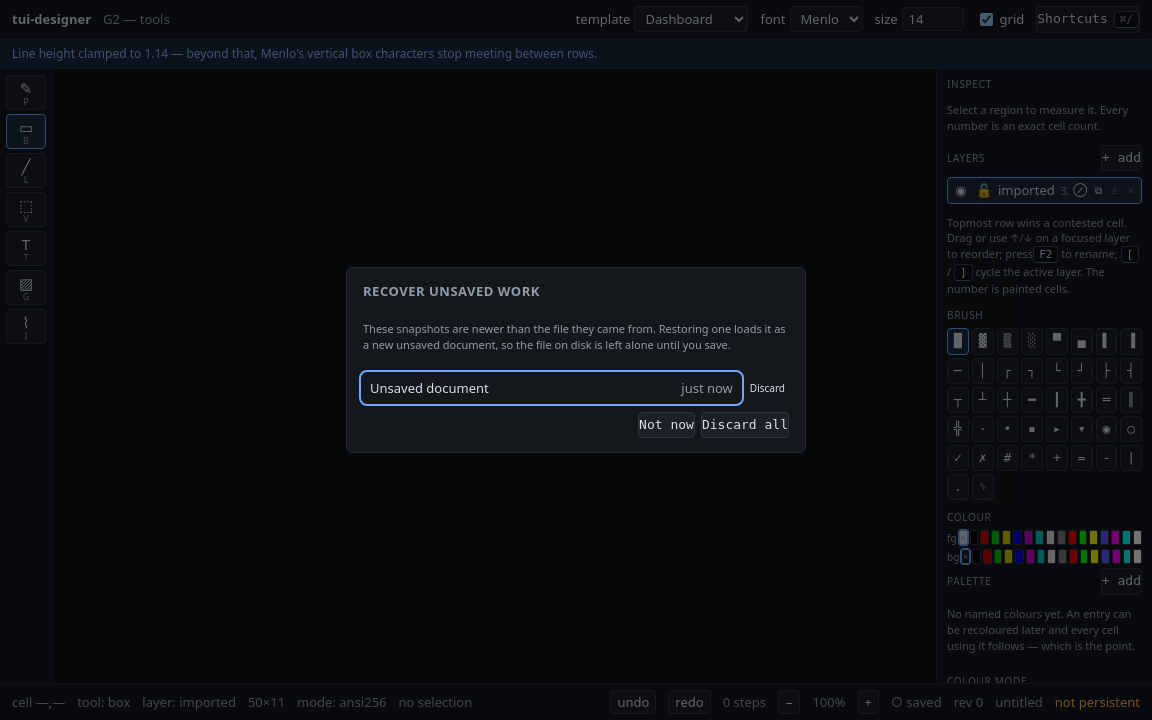
Scenario: App component boundary › keeps recovery modal priority and leaves it open after a failed restore
The image size is (1152, 720).
Press e
Press s
Click the button titled "untitled-90000-1.tui (in memory)" at point(429, 388), box [363,374,740,402]
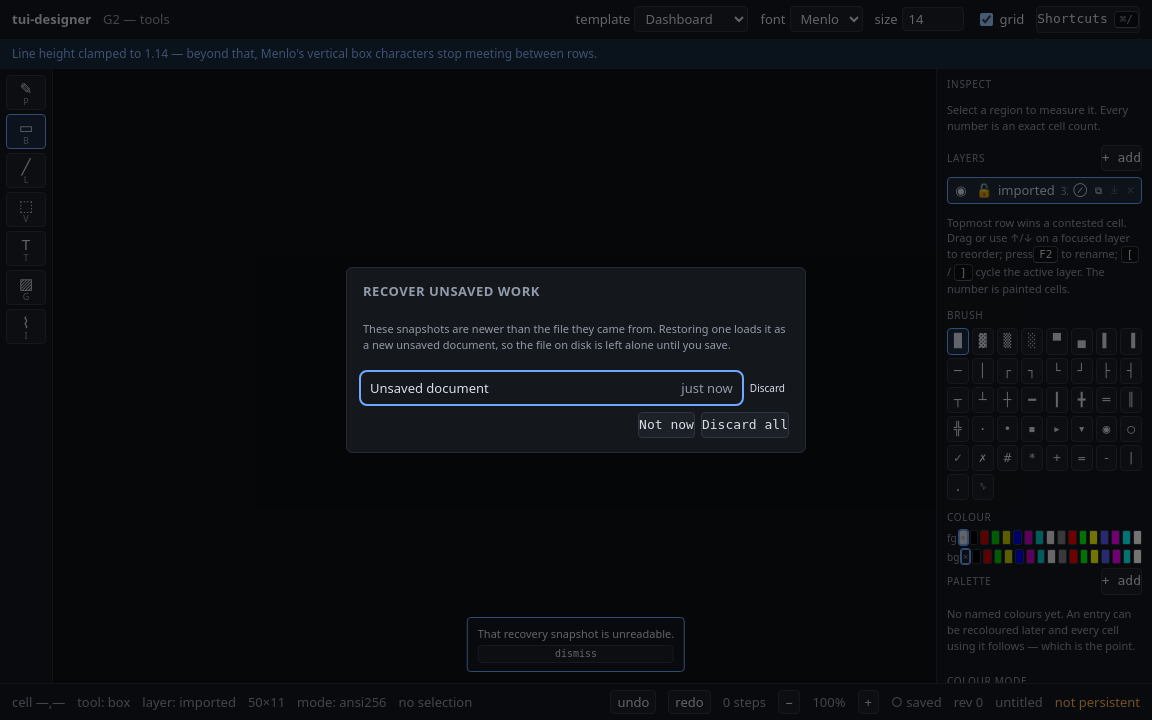
Expected: the dialog "Recover unsaved work" is shown, [346,267,806,453]
Now the text "That recovery snapshot is unreadable." is shown, box [478,626,674,641]
Press Escape
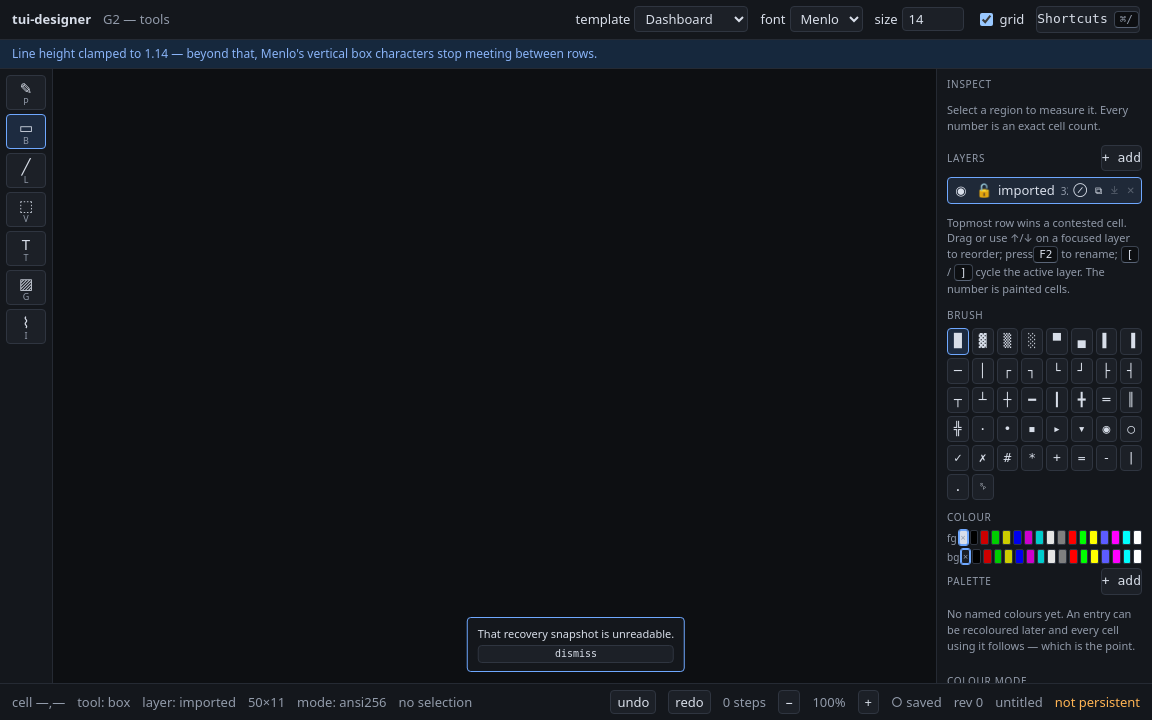
Now the heading "Recover unsaved work" is gone
Now the dialog is gone
